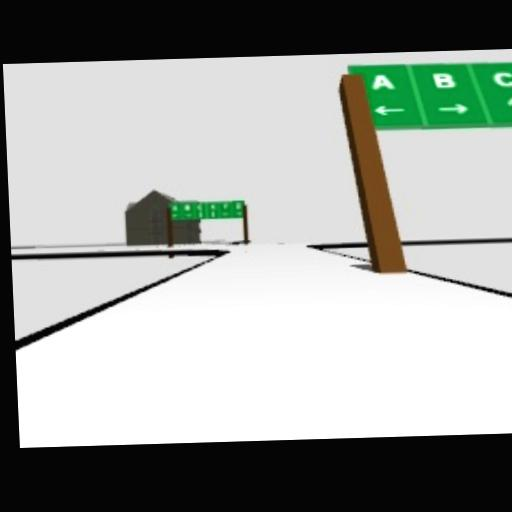A: (371, 73, 398, 93)
B: (431, 72, 460, 90)
C: (494, 69, 512, 87)
Left: (372, 104, 405, 115)
Right: (436, 102, 467, 115)
Straight: (507, 95, 512, 117)
